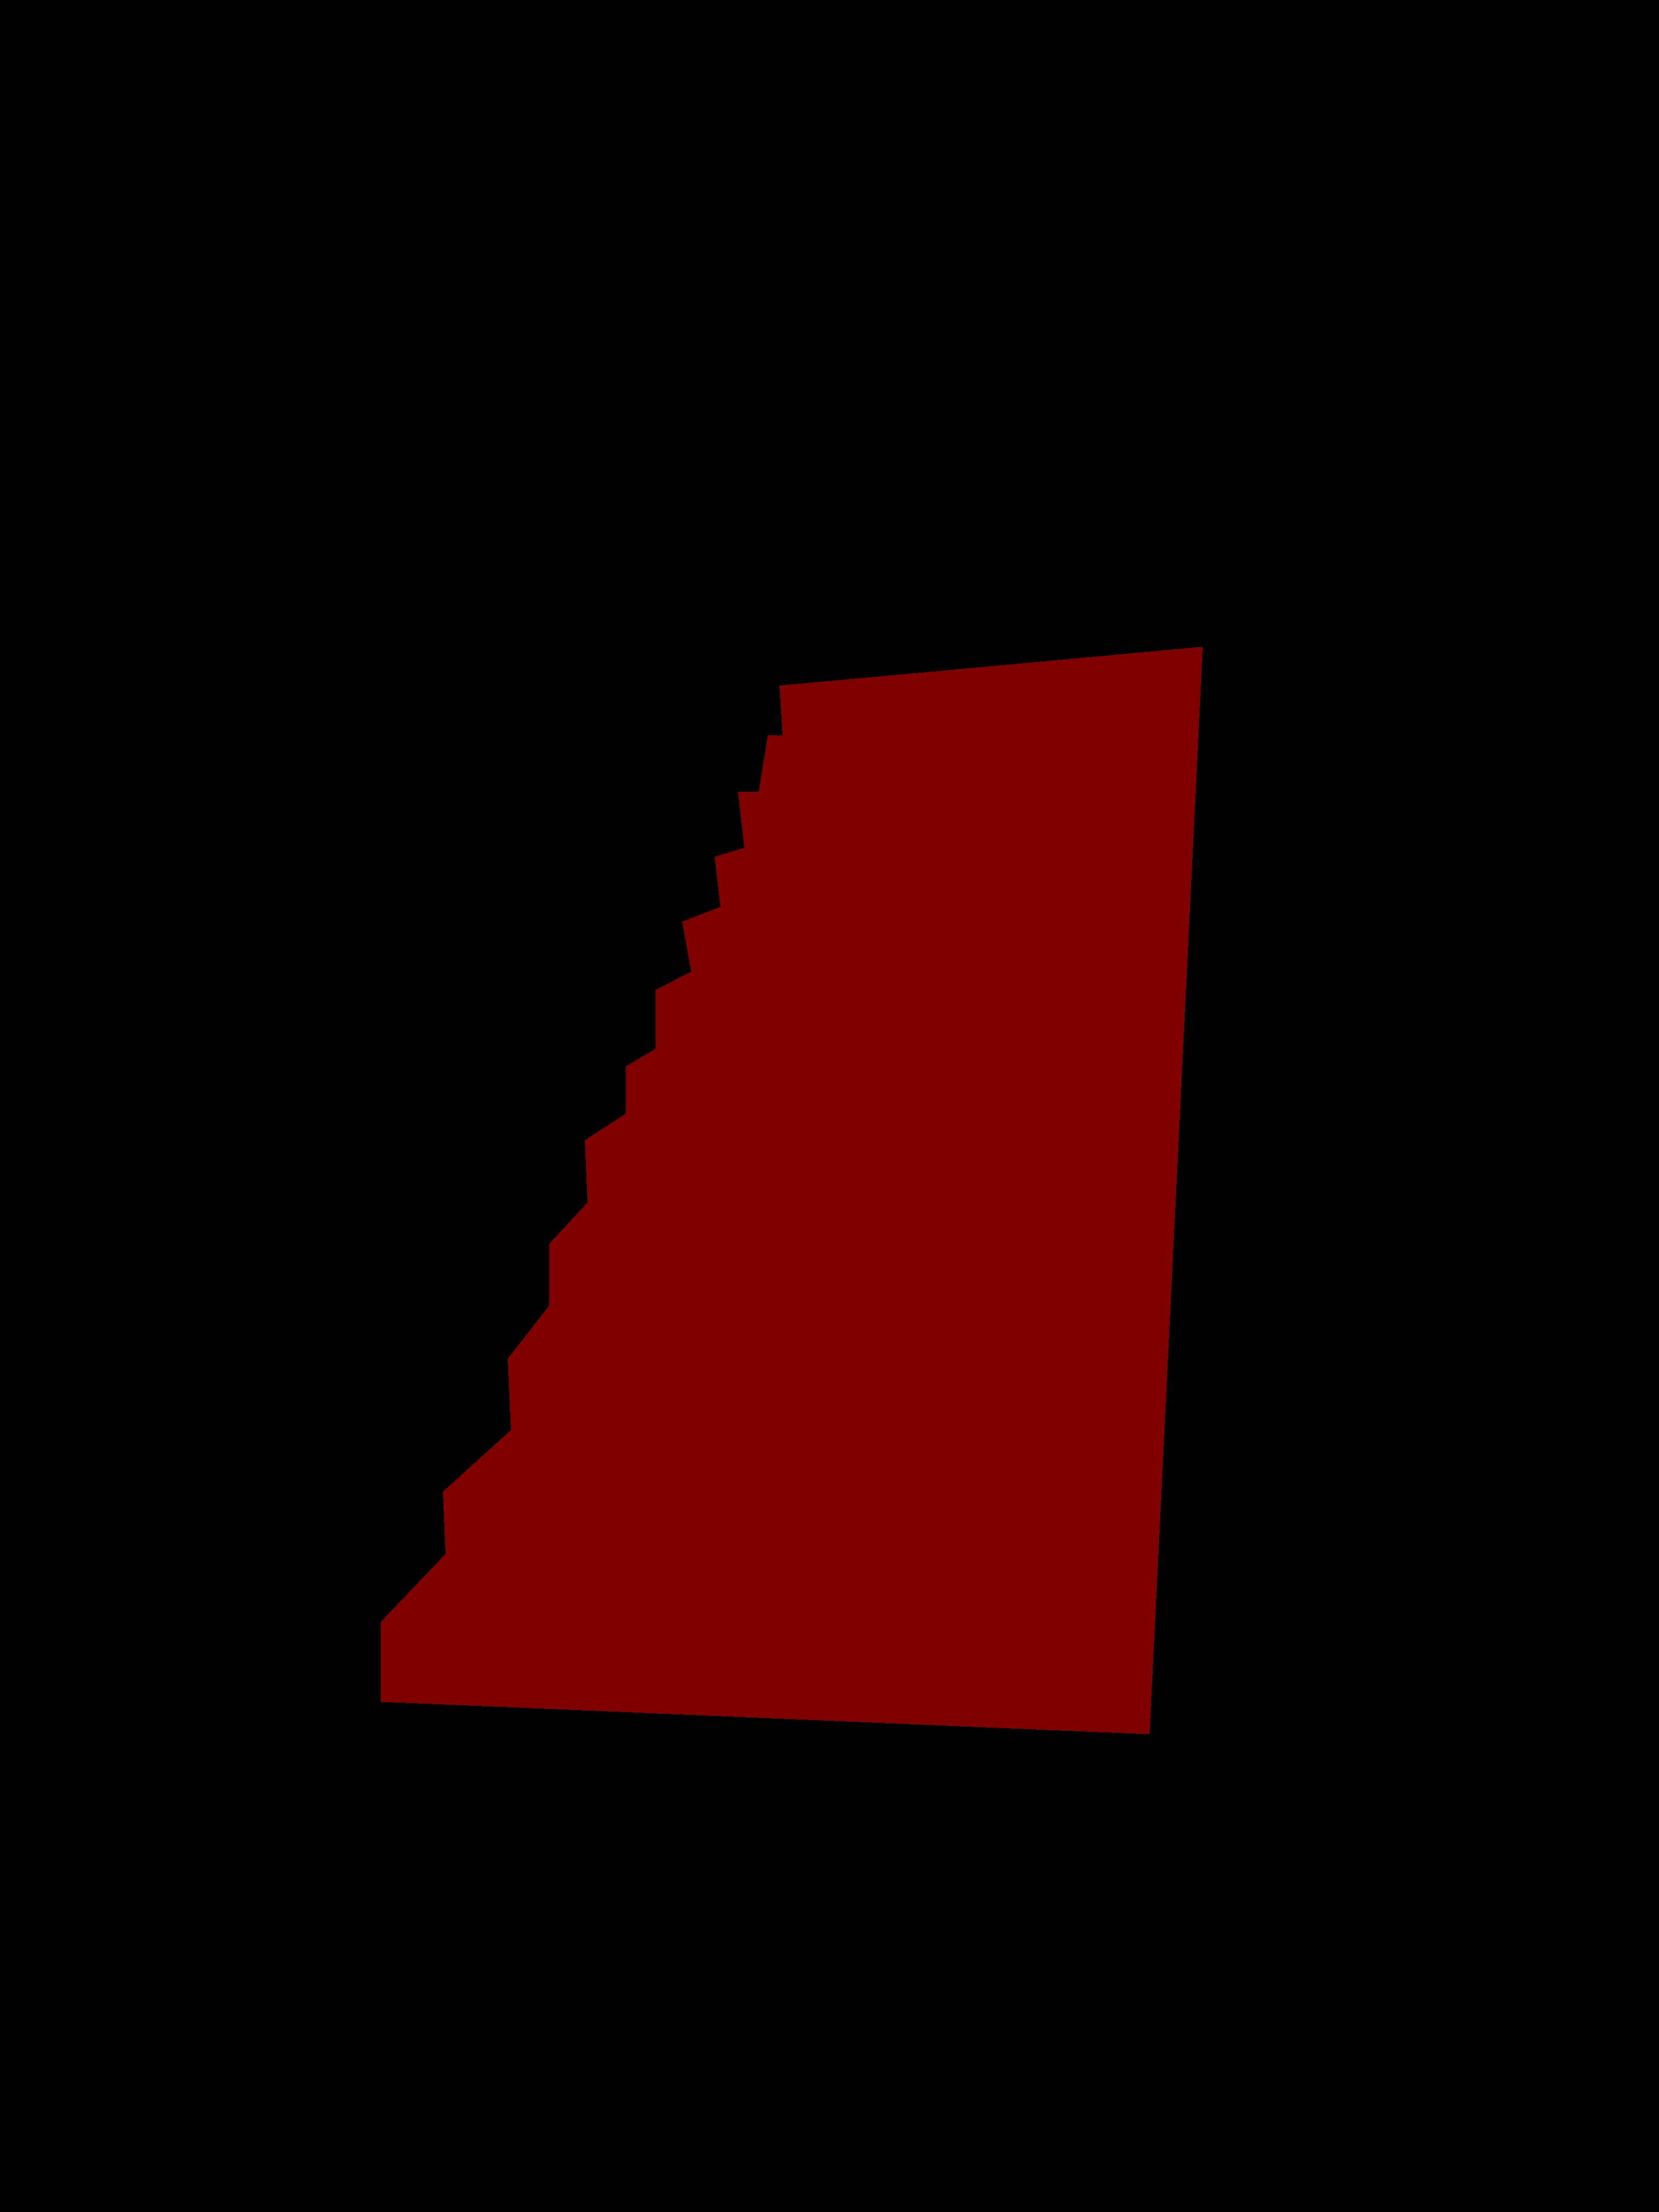stair: (380, 646, 1202, 1735)
